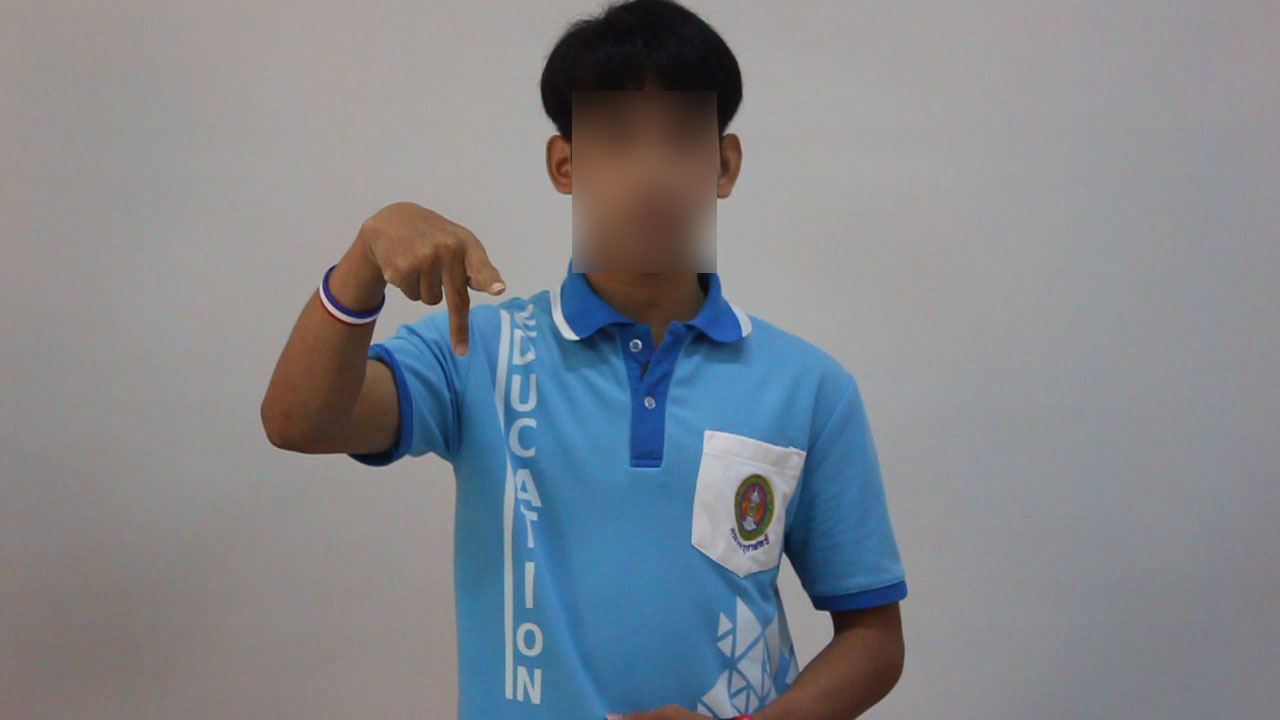por: (338, 176, 512, 363)
